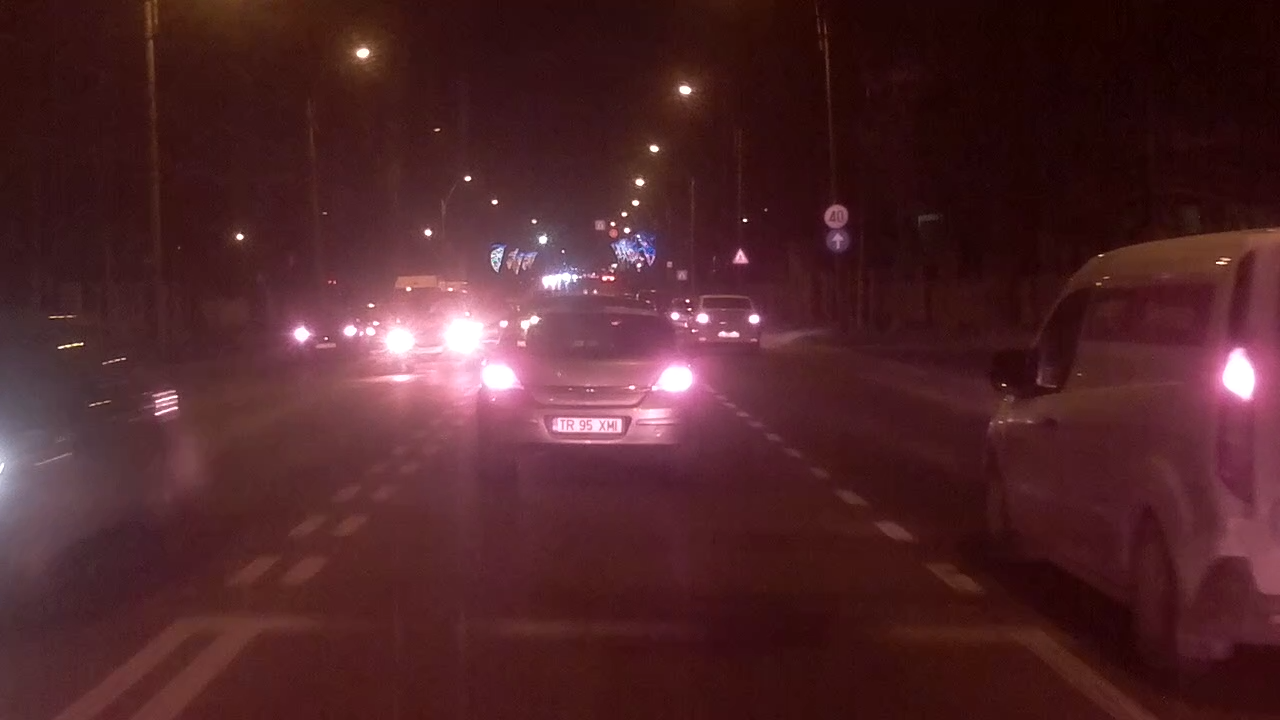license-plate: (545, 413, 627, 437)
